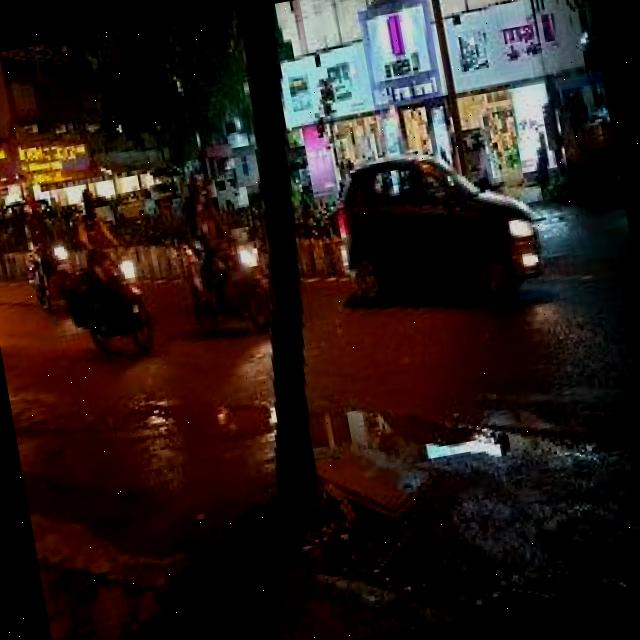stagnation: (103, 379, 272, 454)
